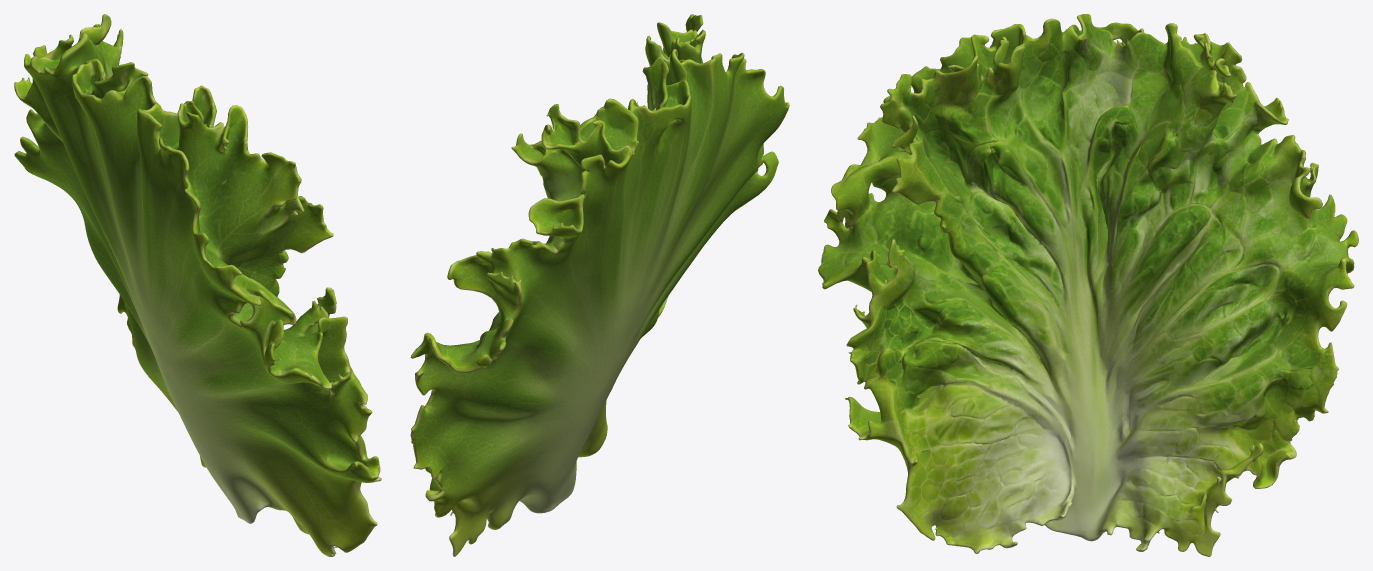
File: lettuce.glb
The picture shows the model from 3 angles, left to right: view 1: azimuth 30°, elevation 25°; view 2: azimuth 150°, elevation 25°; view 3: azimuth 270°, elevation 25°; orthographic projection. The views are drawn at different scales.
Parts seen in each view (by area): view 1: tripo_node_3844c827-9466-4d2e-ae22-ffba76bba38b; view 2: tripo_node_3844c827-9466-4d2e-ae22-ffba76bba38b; view 3: tripo_node_3844c827-9466-4d2e-ae22-ffba76bba38b.
Boxes of the visible parts, x1,y1,x2,y2 form: tripo_node_3844c827-9466-4d2e-ae22-ffba76bba38b: (14,14,381,556); tripo_node_3844c827-9466-4d2e-ae22-ffba76bba38b: (410,14,789,556); tripo_node_3844c827-9466-4d2e-ae22-ffba76bba38b: (818,14,1358,556).
Bounding box in the file's own units: 0.4009 × 0.9684 × 0.9995.
1 material, 1 textured.
